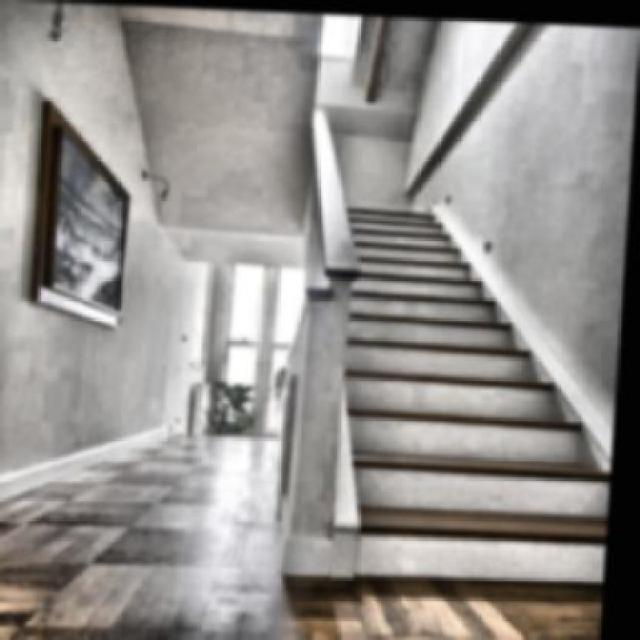stair: (298, 150, 632, 532)
